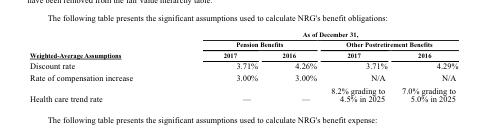table: (29, 29, 457, 103)
table column: (29, 29, 177, 103), (177, 29, 269, 103), (323, 29, 393, 103), (393, 29, 457, 103), (269, 29, 323, 103)
table column header: (29, 29, 457, 59)
table row: (29, 83, 457, 103), (29, 59, 457, 71), (29, 71, 457, 83), (29, 38, 457, 49), (29, 49, 457, 59), (29, 29, 457, 38)
table spanning cell: (29, 29, 177, 59), (177, 29, 457, 38), (177, 38, 323, 49), (323, 38, 457, 49)
